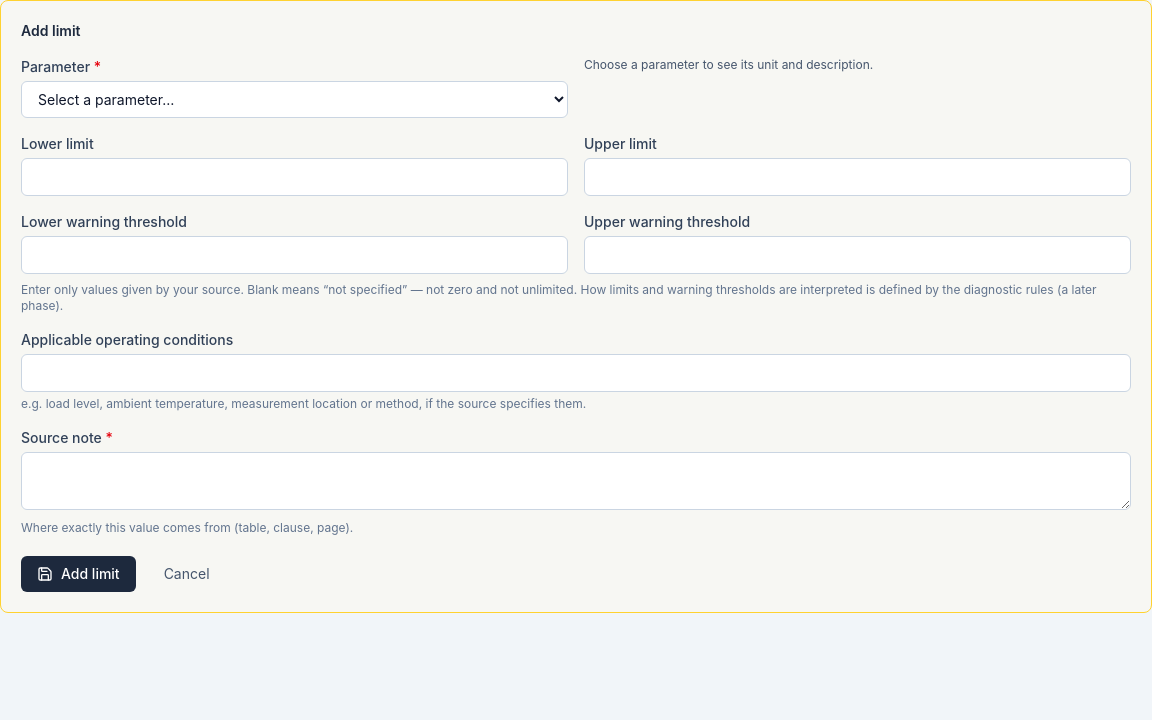
Test case: LimitForm › rejects a lower limit above the upper limit
Select "Voltage (V)" in the dropdown labelled "Parameter *": [294, 100] box [21,81,568,118]
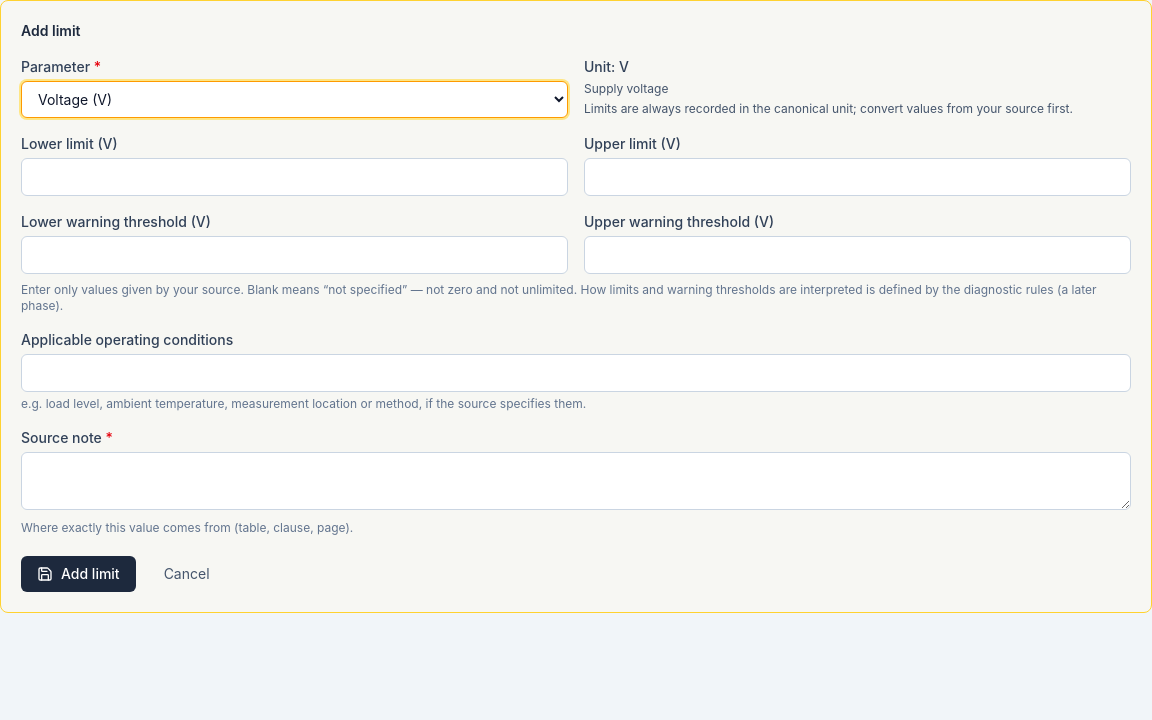
In the field labelled "Lower limit (V)": [294, 177] box [21,158,568,196], type "20"
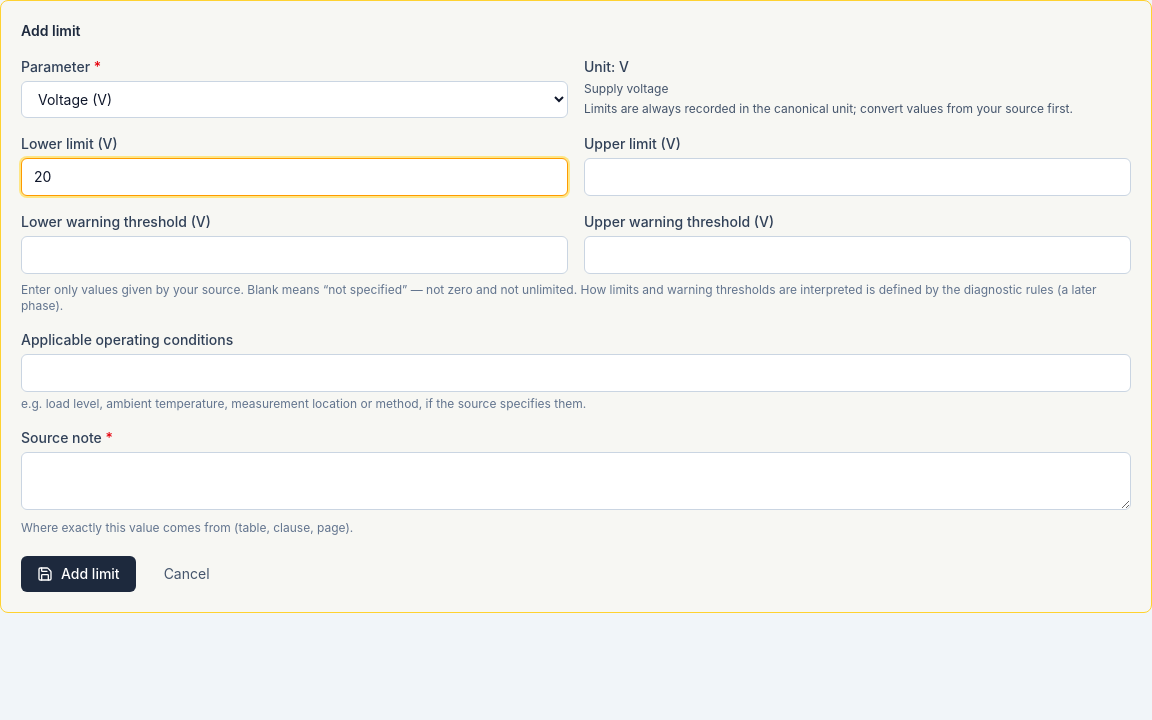
In the field labelled "Upper limit (V)": [858, 177] box [584,158,1131,196], type "10"
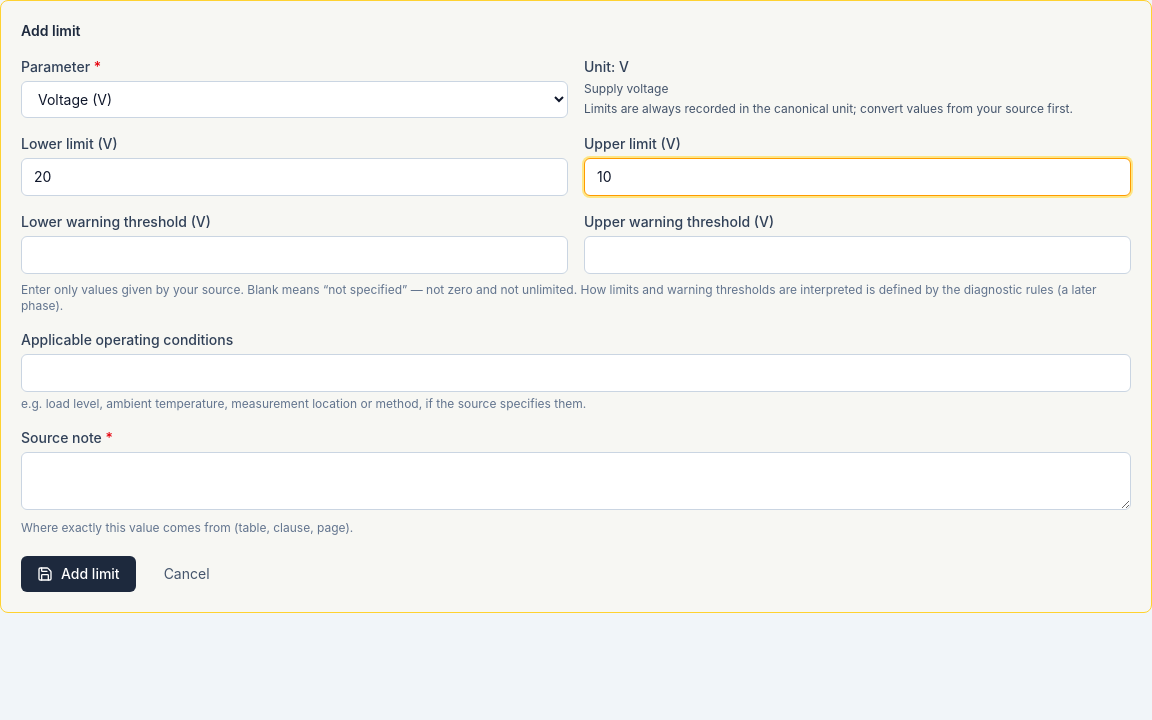
In the text box labelled "Source note *": [576, 481] box [21,452,1131,510], type "note"
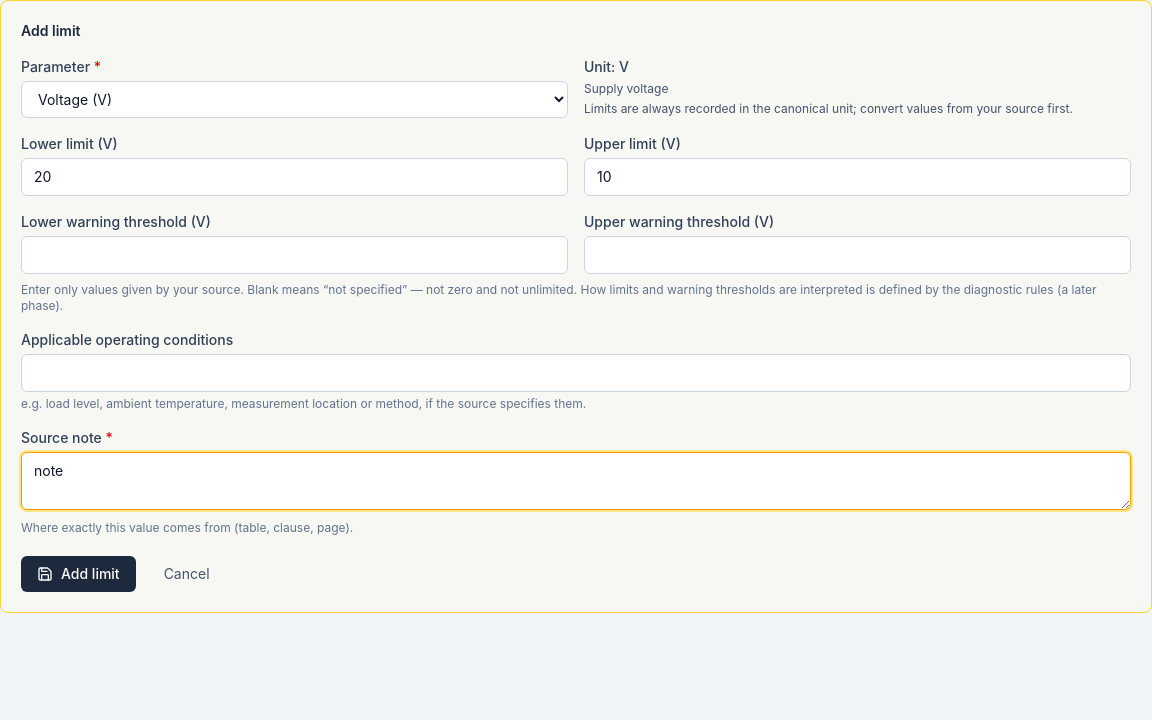
Click the button "Add limit": [78, 574] box [21,556,136,592]
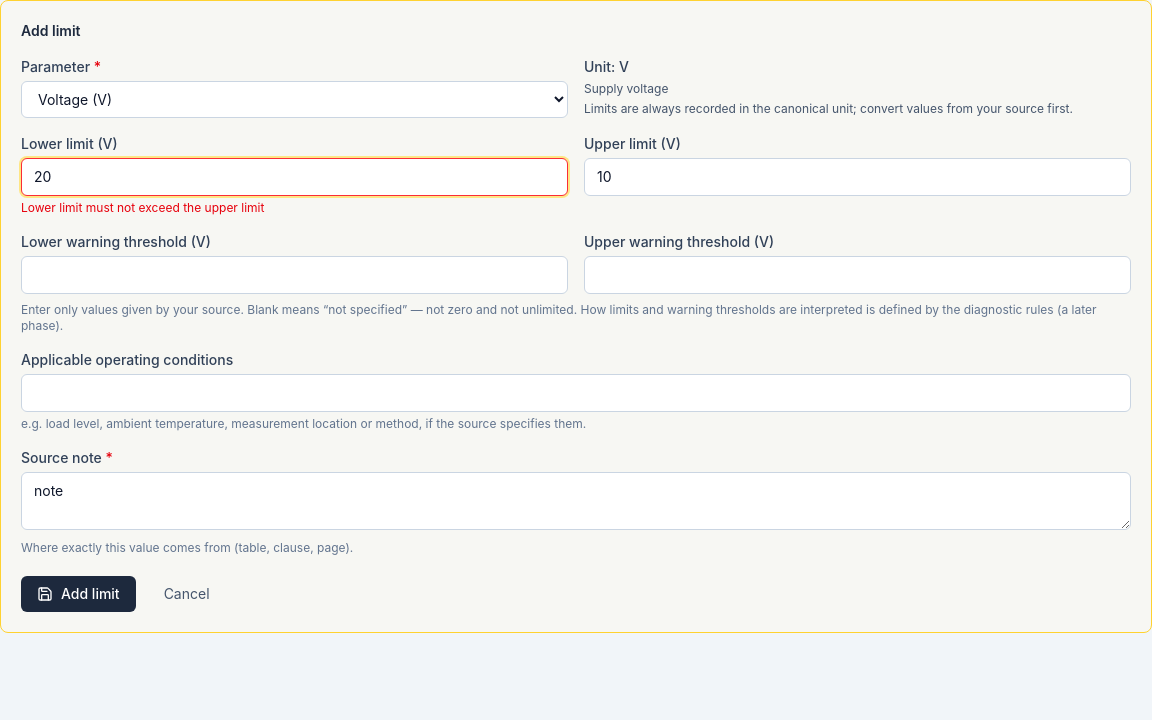
Expected: the text "Lower limit must not exceed the upper limit" is shown, [21,200,264,215]
